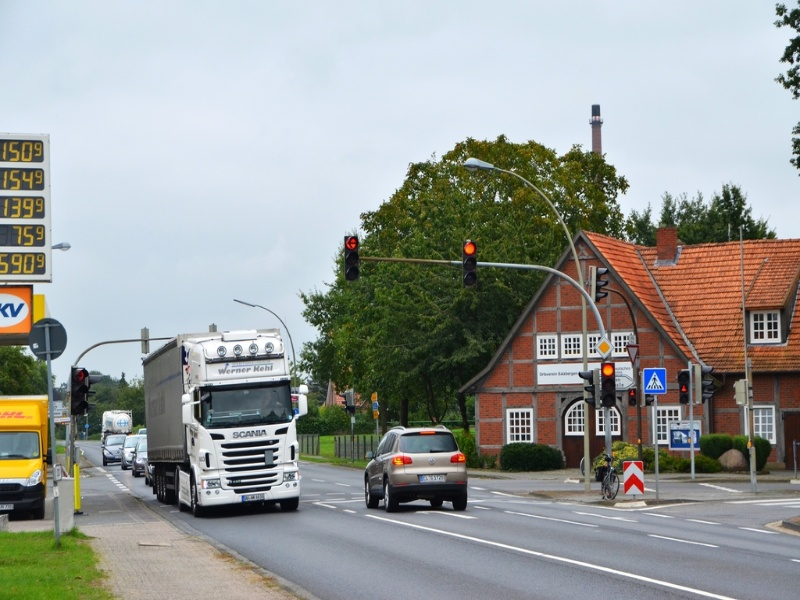yellow_light: (460, 229, 490, 266), (598, 358, 623, 384)
